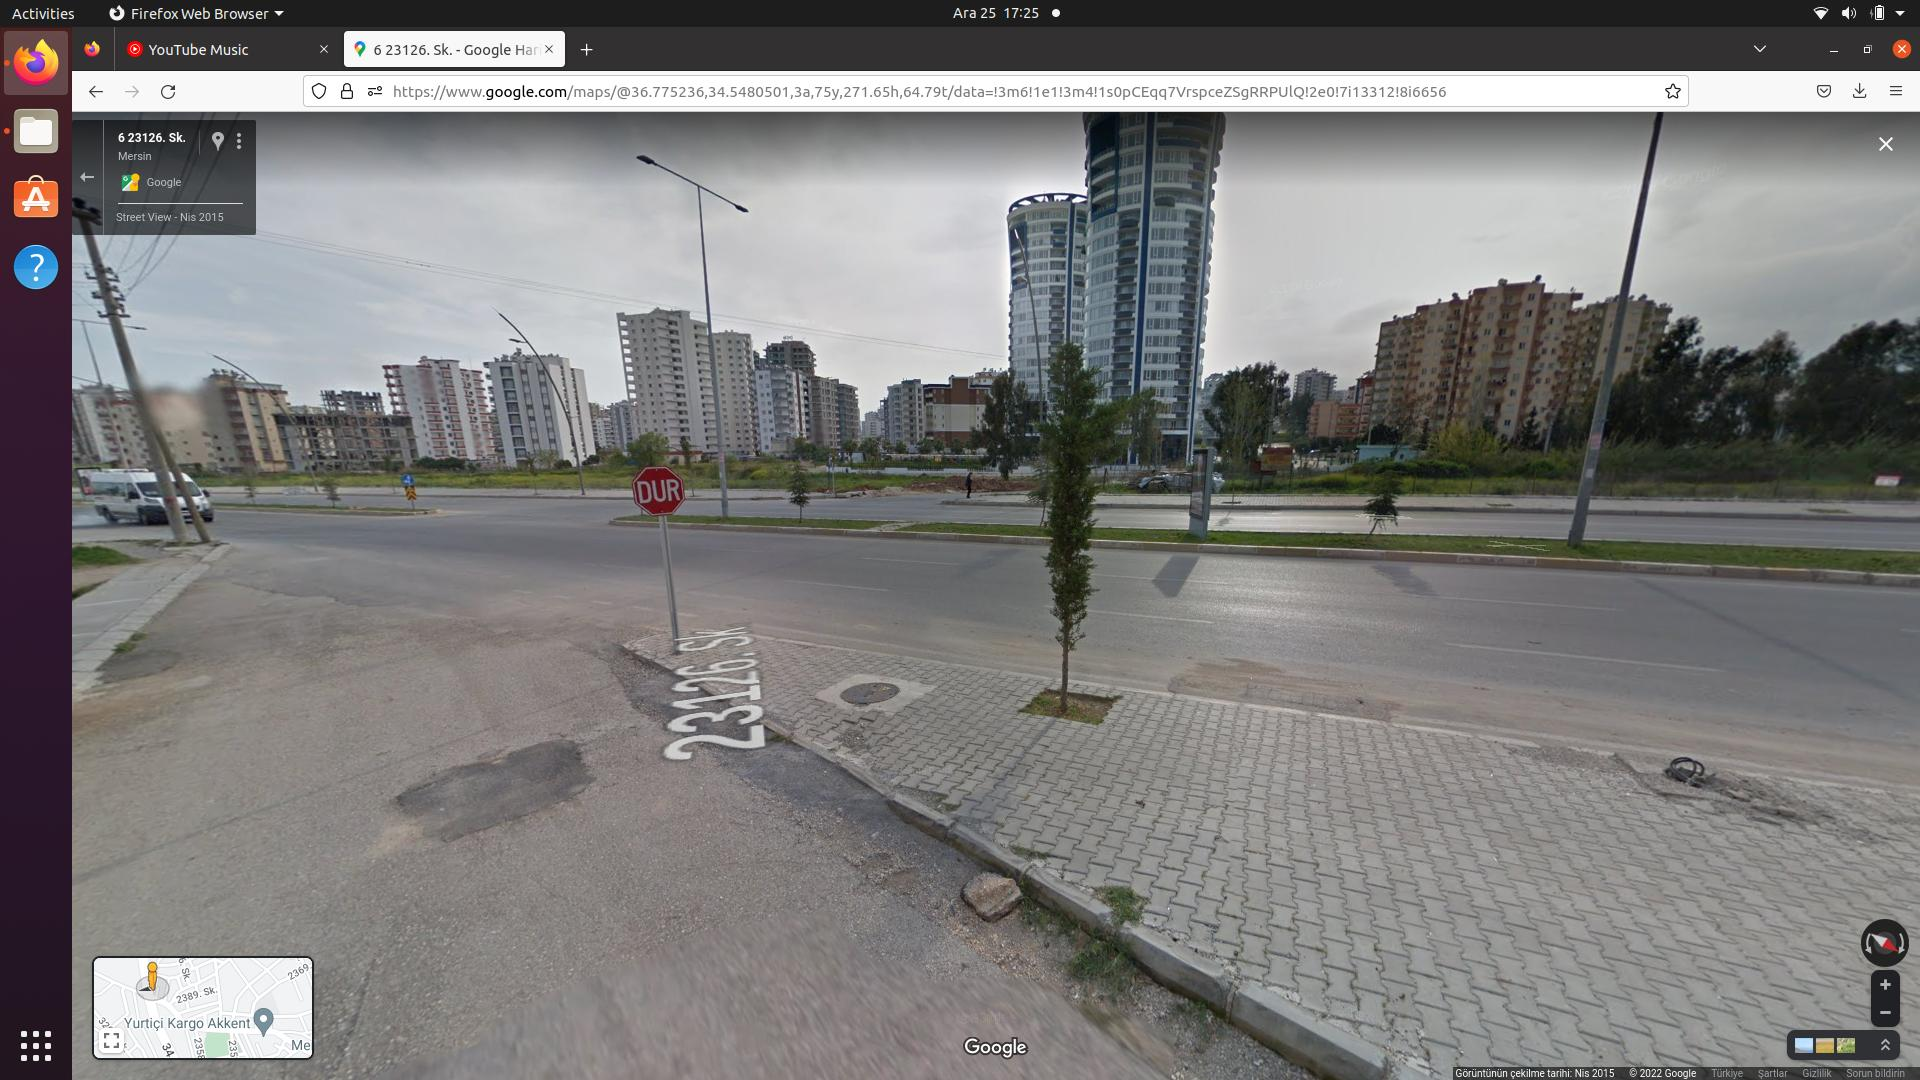stop: (634, 464, 684, 517)
